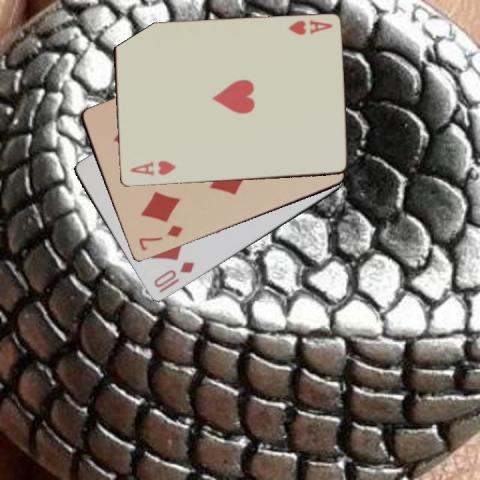10d: (151, 259, 196, 290)
7d: (135, 222, 184, 253)
Ah: (286, 16, 334, 36), (126, 158, 176, 177)
